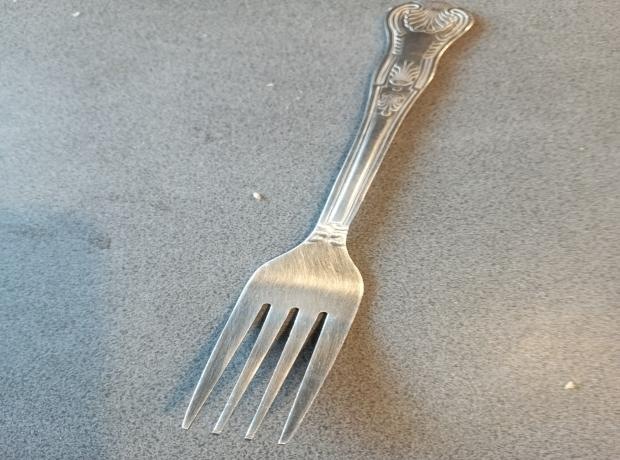metal: (177, 1, 479, 445)
